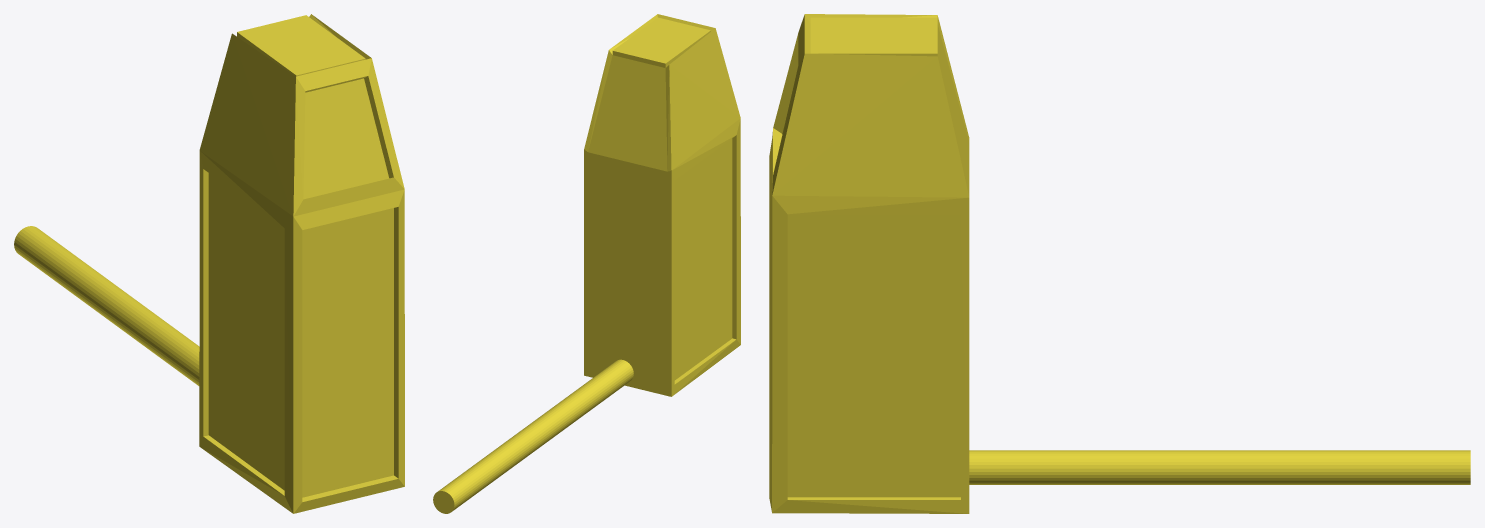
The model's file is lamparina.fbx.
3 renders of one model, left to right at view 1: azimuth 30°, elevation 25°; view 2: azimuth 150°, elevation 25°; view 3: azimuth 270°, elevation 25°, orthographic. The views are drawn at different scales.
Parts seen in each view (by area): view 1: lamparina; view 2: lamparina; view 3: lamparina.
Boxes of the visible parts, x1=… form: lamparina: x1=14, y1=14, x2=404, y2=513; lamparina: x1=433, y1=14, x2=740, y2=513; lamparina: x1=769, y1=14, x2=1470, y2=513.
Bounding box in the file's own units: 50.18 × 176 × 249.
